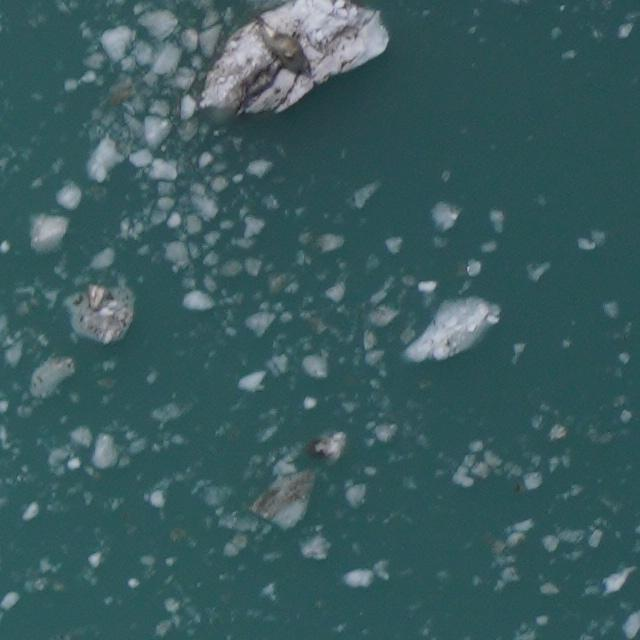seal: (255, 9, 316, 90)
